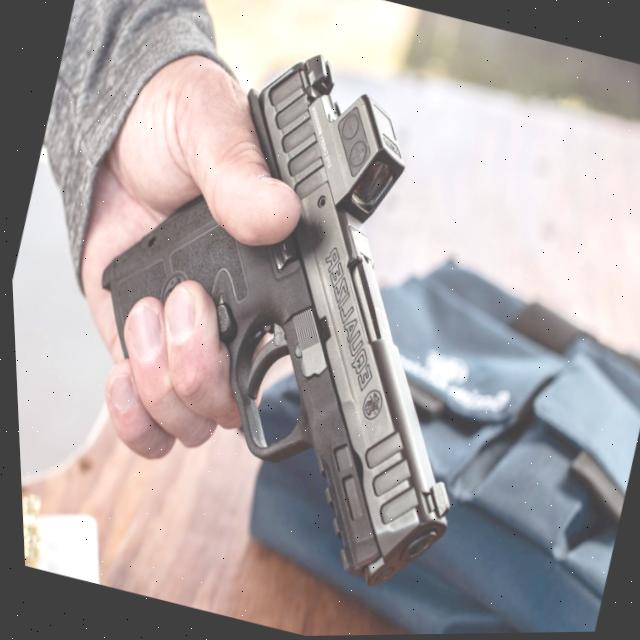pistol: (25, 5, 558, 611)
